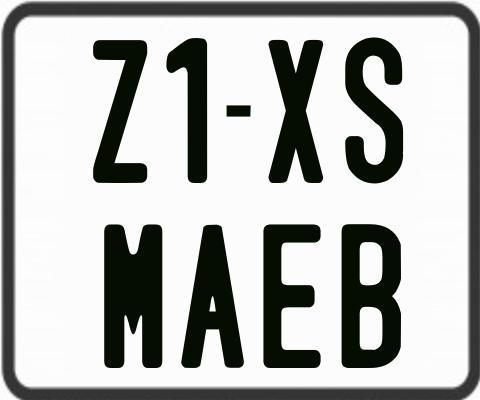1: (163, 35, 207, 184)
A: (178, 225, 244, 369)
B: (339, 223, 403, 368)
E: (262, 224, 325, 372)
M: (102, 222, 162, 367)
S: (344, 36, 406, 185)
X: (269, 39, 327, 188)
Z: (91, 40, 149, 185)
